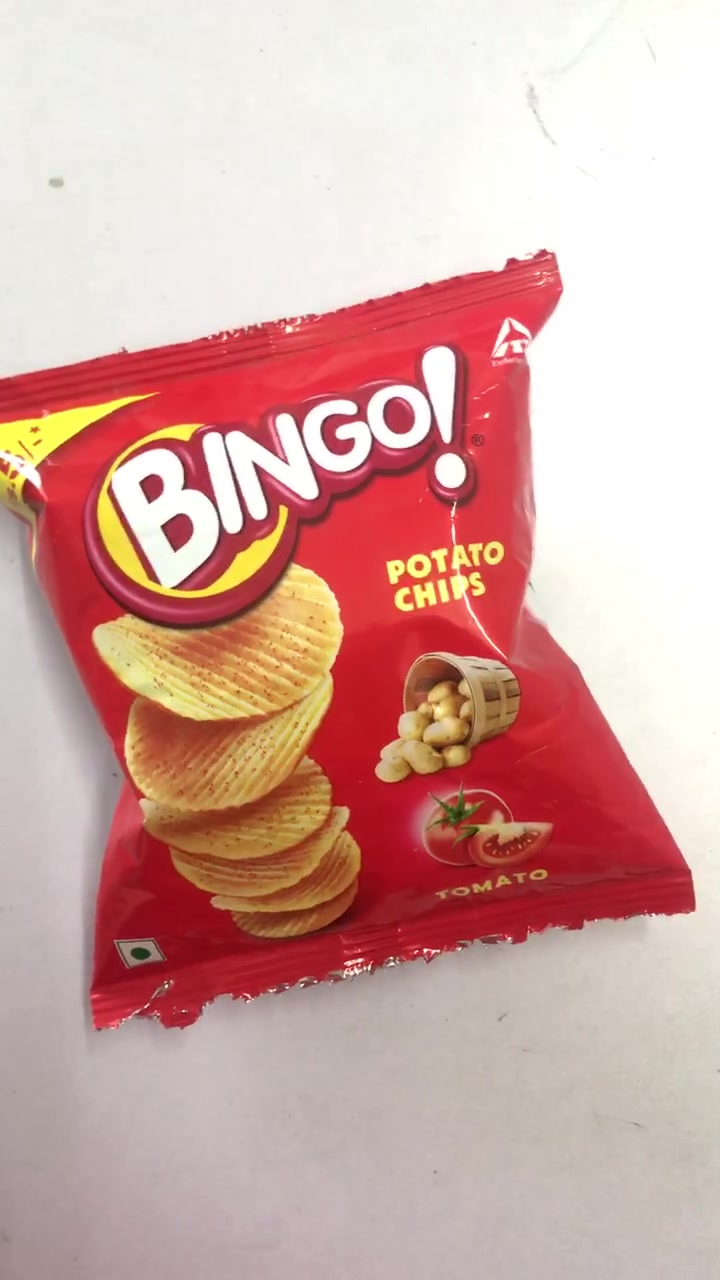Bingo: (1, 260, 696, 1006)
